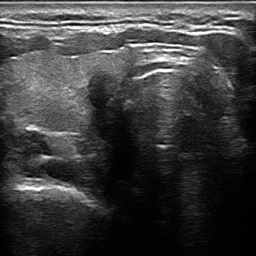mass: (88, 72, 112, 109)
